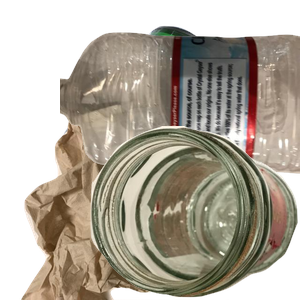glass: (90, 126, 300, 300)
metal: (60, 23, 300, 203)
plastic: (60, 30, 300, 196)
trash: (19, 120, 249, 300)
